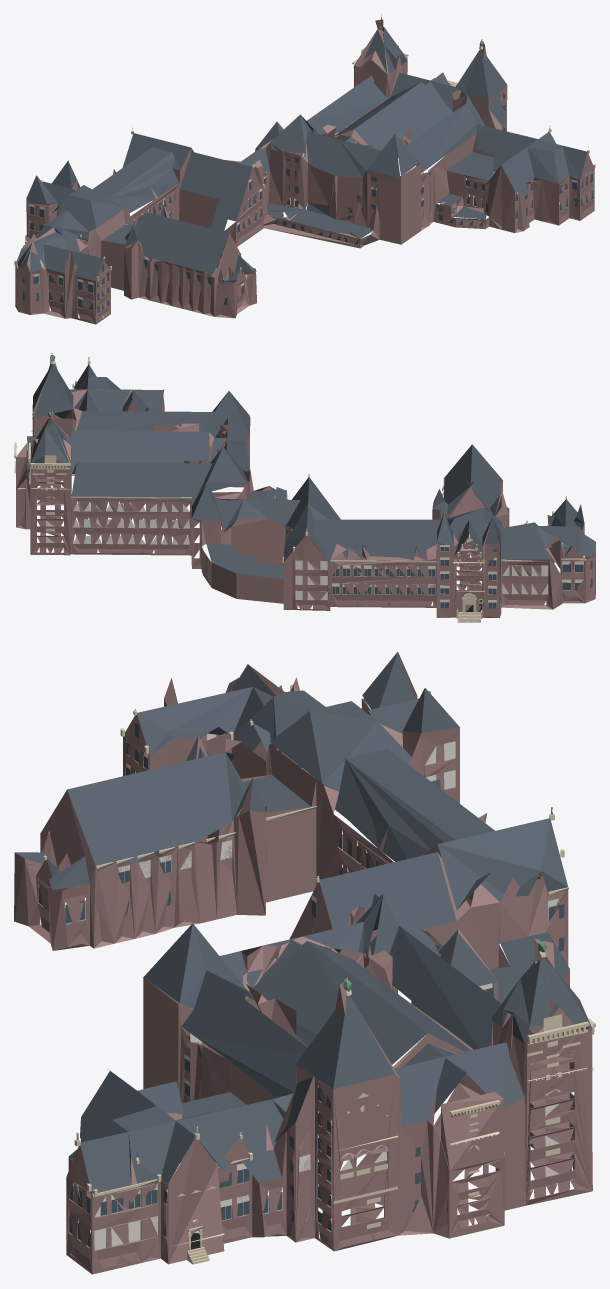
Rendered from tropenmuseum.lod1.glb.
3 views of the same model, one above another, from view 1: azimuth 30°, elevation 25°; view 2: azimuth 150°, elevation 25°; view 3: azimuth 270°, elevation 25° (orthographic). The views are drawn at different scales.
Parts seen in each view (by area): view 1: tropenmuseum; view 2: tropenmuseum; view 3: tropenmuseum.
Boxes of the visible parts, x1,y1,x2,y2 form: tropenmuseum: (14,14,595,324); tropenmuseum: (14,353,595,622); tropenmuseum: (14,652,595,1274).
Size of the model in its own units: 190 by 45.12 by 93.47.
